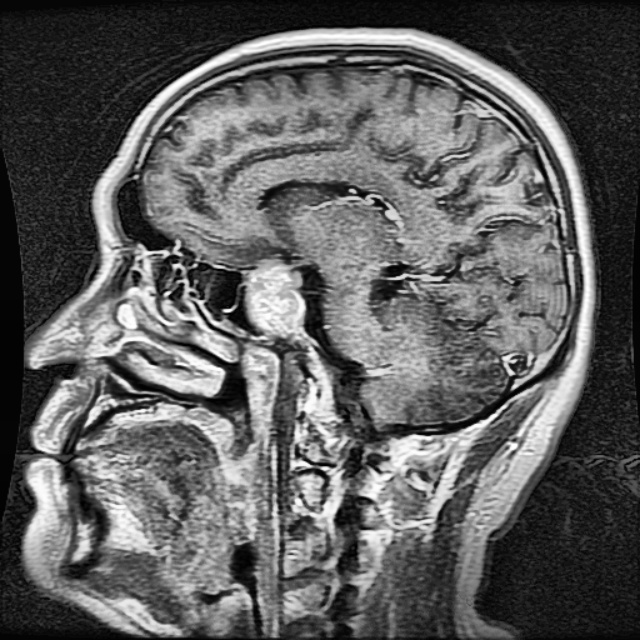Pituitary: (247, 262, 303, 334)
